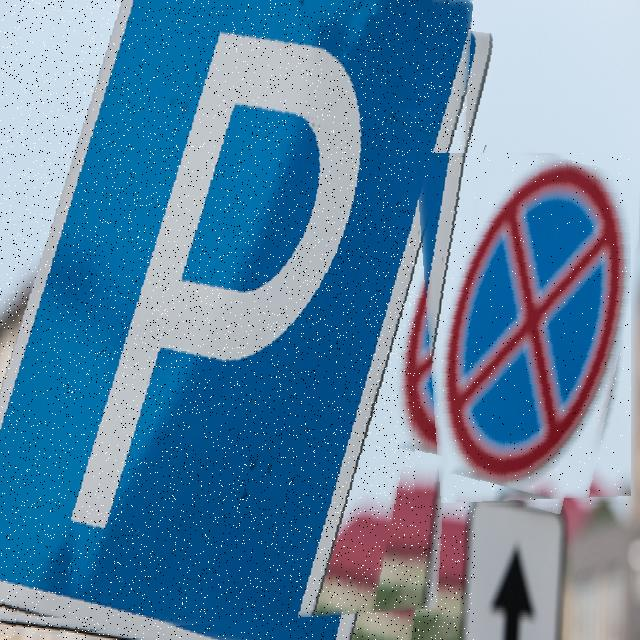no stopping: (415, 154, 631, 506)
parking: (0, 0, 475, 640)
